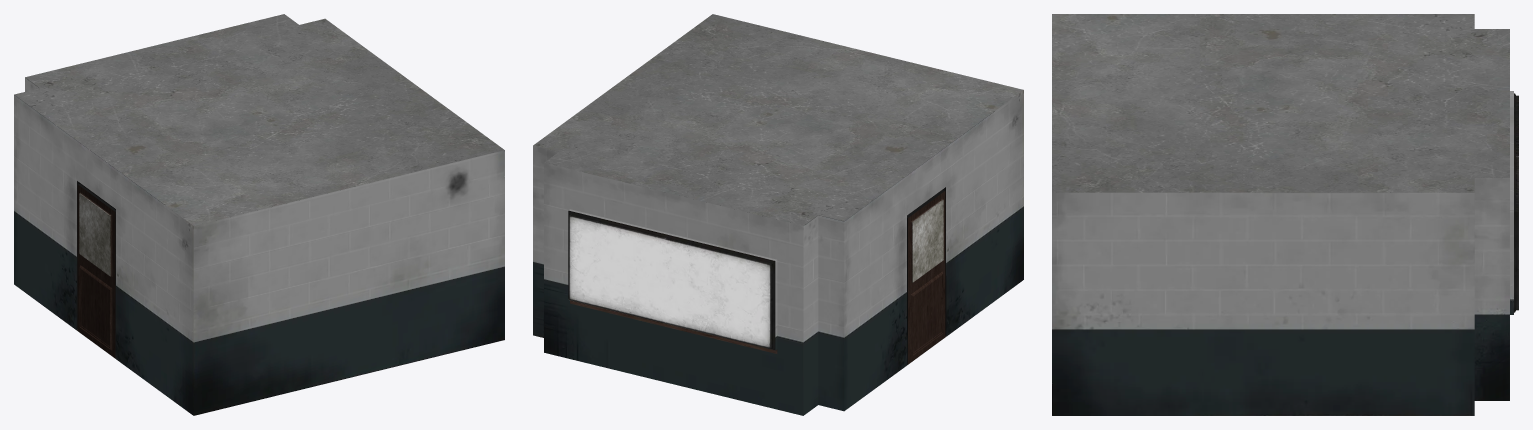
Rendered from room.opt.glb.
3 renders of one model, left to right at view 1: azimuth 30°, elevation 25°; view 2: azimuth 150°, elevation 25°; view 3: azimuth 270°, elevation 25°, orthographic. The views are drawn at different scales.
Visible parts, largest first — view 1: defaultMaterial (×3); view 2: defaultMaterial (×3); view 3: defaultMaterial (×2).
Part boxes in pixels (x1=…): defaultMaterial (×3): x1=14, y1=14, x2=504, y2=415; defaultMaterial (×3): x1=533, y1=14, x2=1023, y2=415; defaultMaterial (×2): x1=1052, y1=14, x2=1518, y2=415.
Bounding box in the file's own units: 1.82 × 1.06 × 2.
5 materials, 5 textured.
